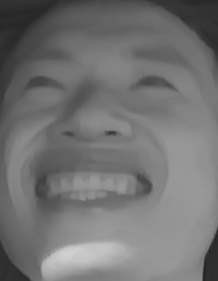eye: (18, 65, 69, 99), (125, 66, 179, 98)
mouth: (25, 152, 156, 220)
